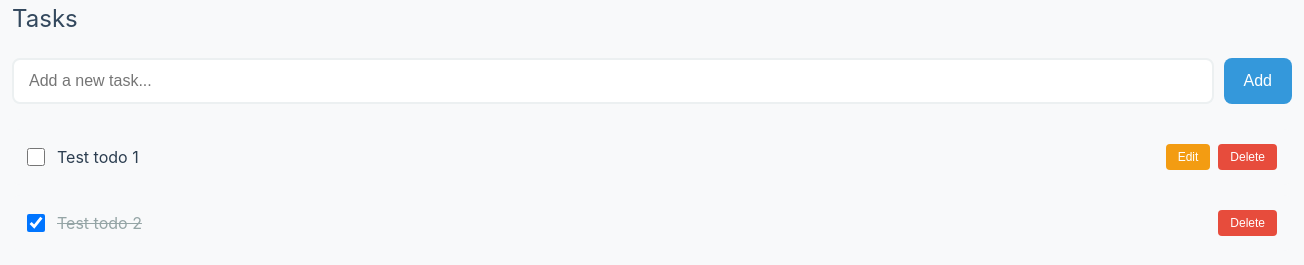
Test: TodoList Component › enters edit mode when edit button is clicked
This screenshot has width=1304, height=265.
Click the button "Edit" at (1188, 157), box x1=1166 y1=144 x2=1210 y2=170
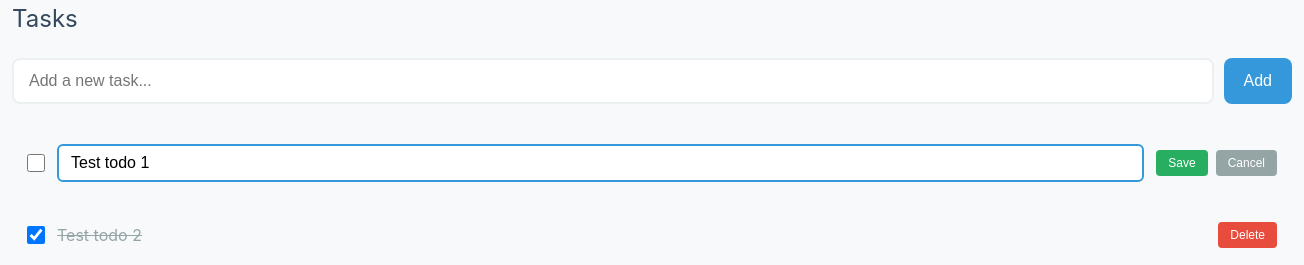
Check: the field showing "Test todo 1" is shown, box x1=57 y1=144 x2=1144 y2=182
Check: the button "Save" is shown, box x1=1156 y1=150 x2=1208 y2=176
Check: the button "Cancel" is shown, box x1=1216 y1=150 x2=1277 y2=176
